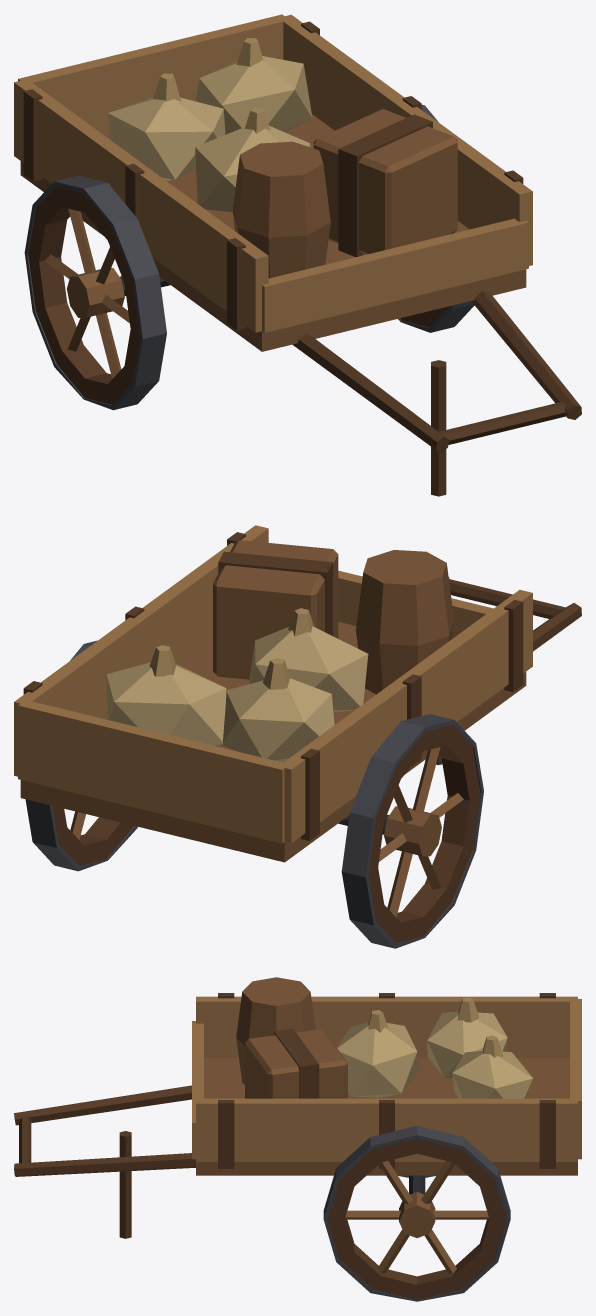
Rendered from town_cart.glb.
3 renders of one model, top to bottom at view 1: azimuth 30°, elevation 25°; view 2: azimuth 150°, elevation 25°; view 3: azimuth 270°, elevation 25°, orthographic. The views are drawn at different scales.
Visible parts, largest first — view 1: town_cart; view 2: town_cart; view 3: town_cart.
Part boxes in pixels (x1,y1,x2,y2): town_cart: (14, 14, 581, 496); town_cart: (14, 525, 581, 948); town_cart: (14, 977, 581, 1301).
Size of the model in its own units: 1.6 by 1.21 by 2.83.
